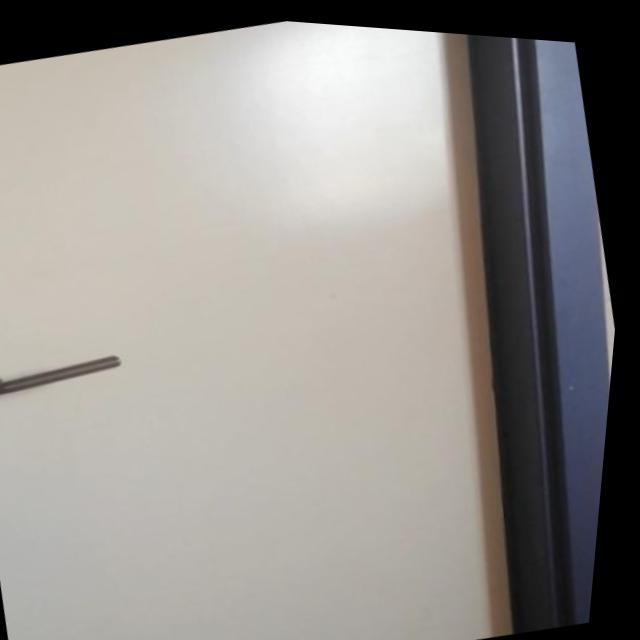door_handle: (0, 340, 138, 408)
